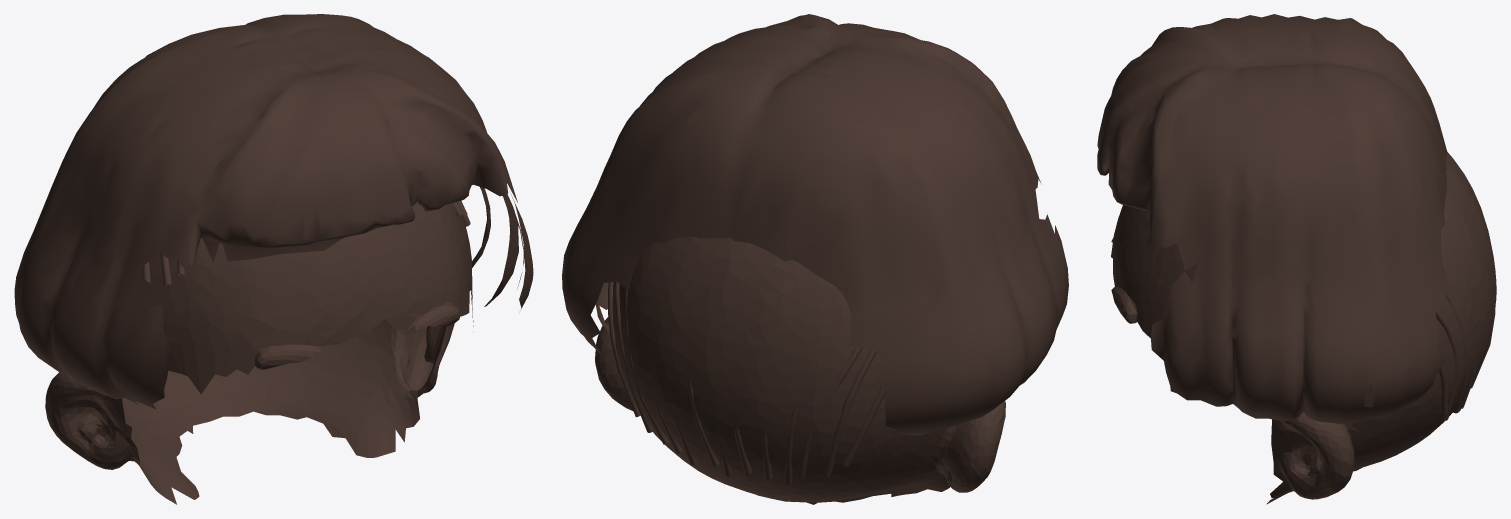
File: blunt-bob.glb
3 views of the same model, side by side, from view 1: azimuth 30°, elevation 25°; view 2: azimuth 150°, elevation 25°; view 3: azimuth 270°, elevation 25° (orthographic). The views are drawn at different scales.
Visible parts, largest first — view 1: Hair, HairScalp, HairPulledRootStrands; view 2: Hair, HairScalp, HairPulledRootStrands; view 3: Hair, HairScalp, HairPulledRootStrands.
Boxes of the visible parts, box(x1,y1,x2,y2) form: Hair: box(14, 14, 533, 409); HairScalp: box(45, 201, 473, 504); HairPulledRootStrands: box(142, 200, 470, 298); Hair: box(562, 14, 1068, 435); HairScalp: box(595, 236, 1005, 504); HairPulledRootStrands: box(608, 281, 884, 484); Hair: box(1097, 14, 1450, 424); HairScalp: box(1111, 152, 1496, 504); HairPulledRootStrands: box(1435, 266, 1496, 420).
Size of the model in its own units: 0.5742 by 0.5156 by 0.4529.
